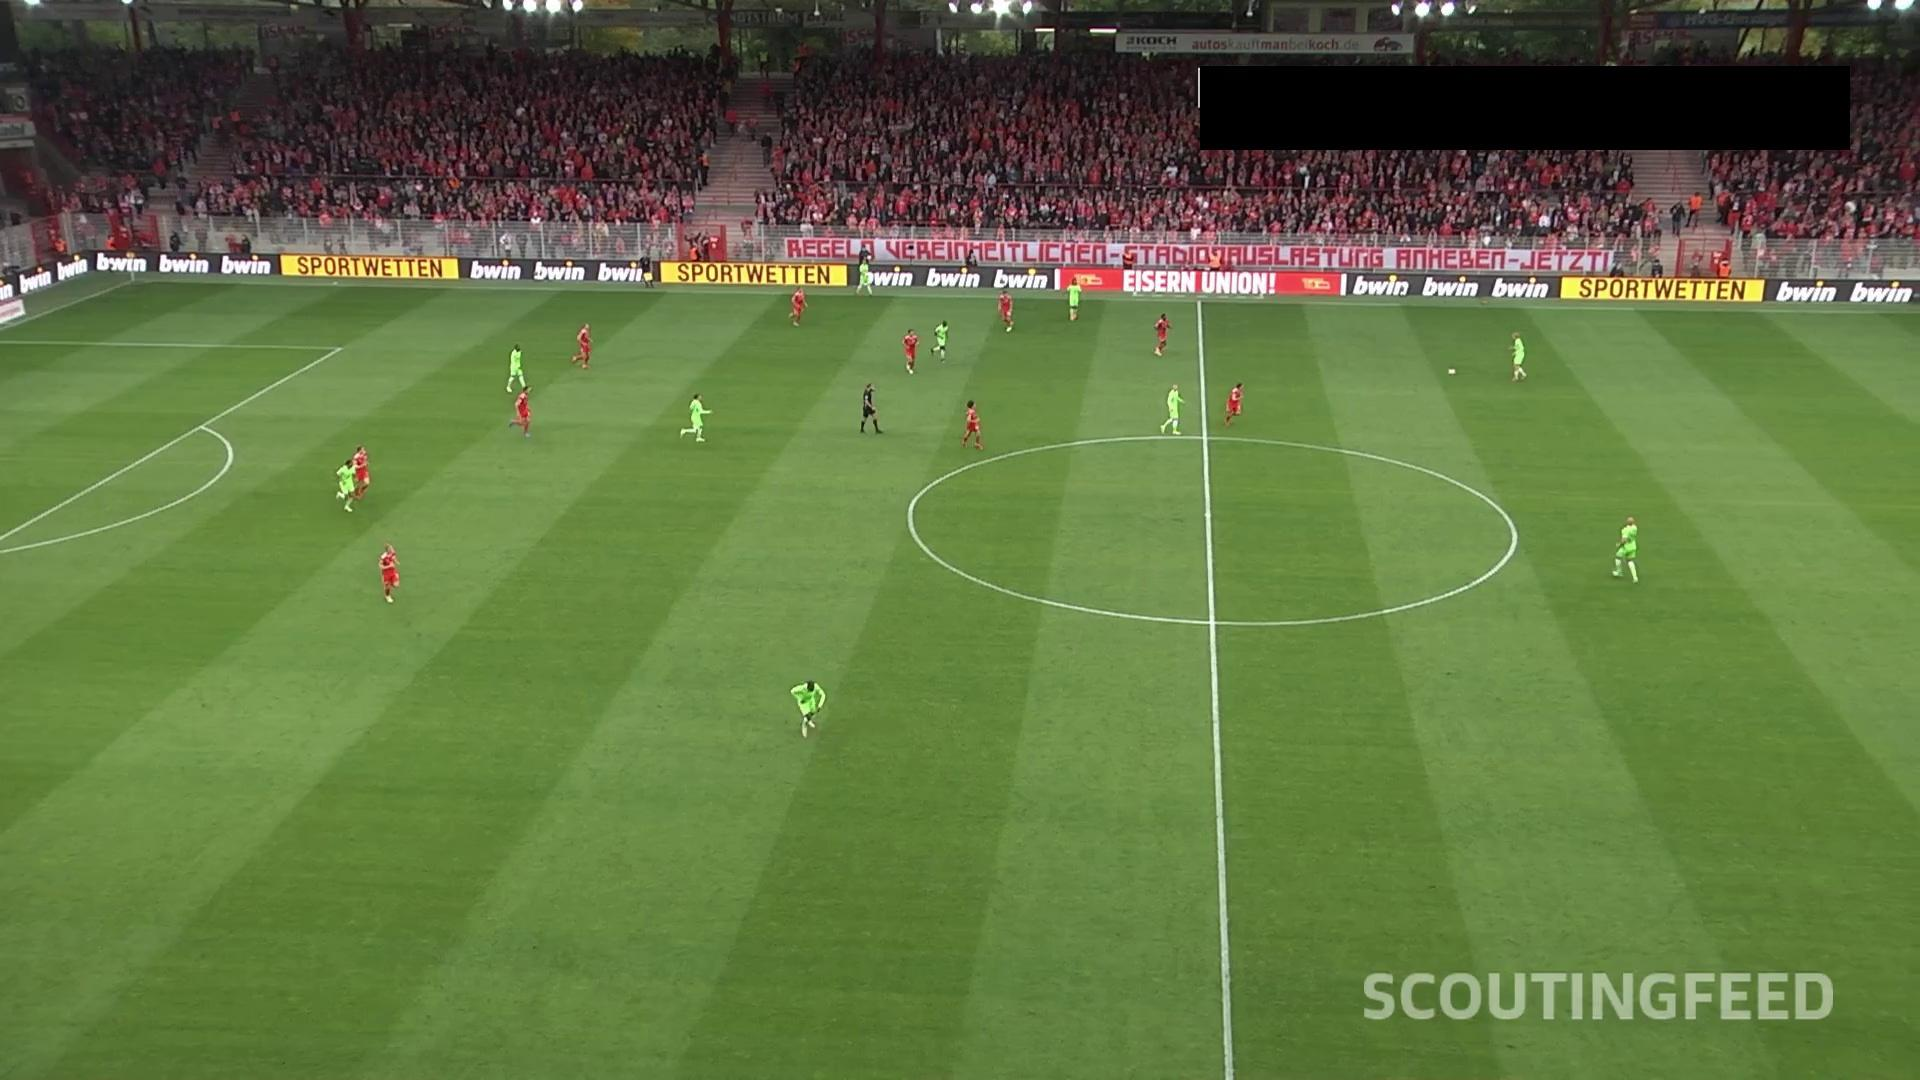Location-of-ball: (1440, 355, 1466, 388)
